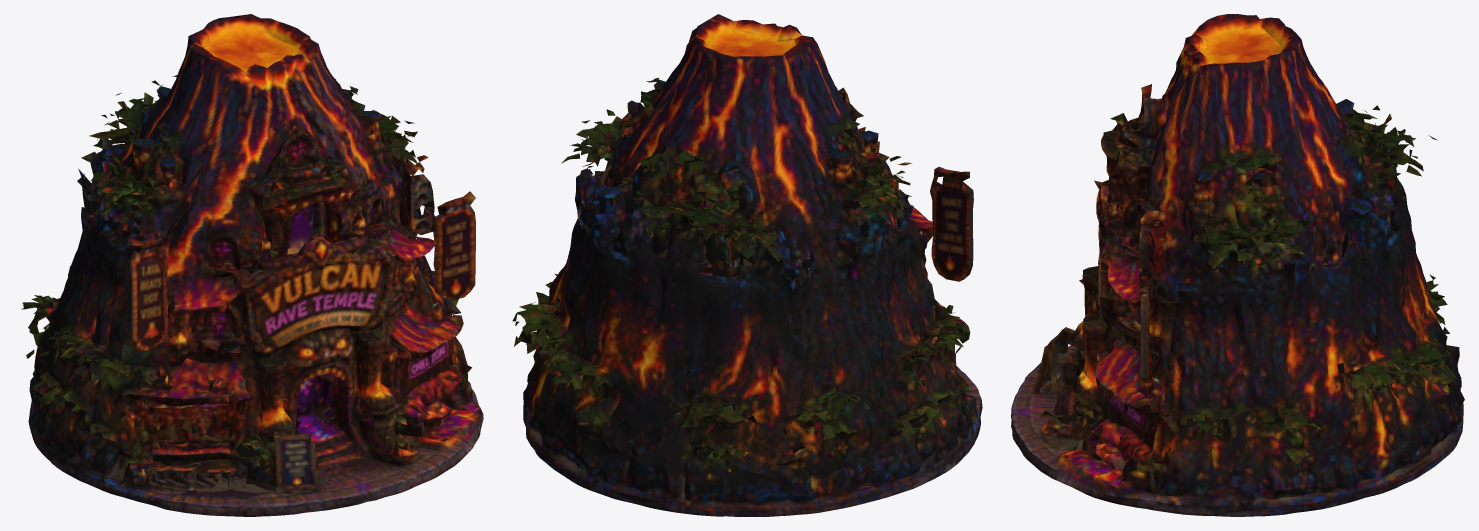
File: vulcan_temple.glb
The picture shows the model from 3 angles, left to right: view 1: azimuth 30°, elevation 25°; view 2: azimuth 150°, elevation 25°; view 3: azimuth 270°, elevation 25°; orthographic projection.
Parts seen in each view (by area): view 1: output; view 2: output; view 3: output.
Boxes of the visible parts, x1=… form: output: x1=21, y1=14, x2=483, y2=516; output: x1=512, y1=14, x2=982, y2=516; output: x1=1011, y1=14, x2=1464, y2=516.
Bounding box in the file's own units: 2 × 1.86 × 1.99.
Materials: 1 (1 with a texture image).
